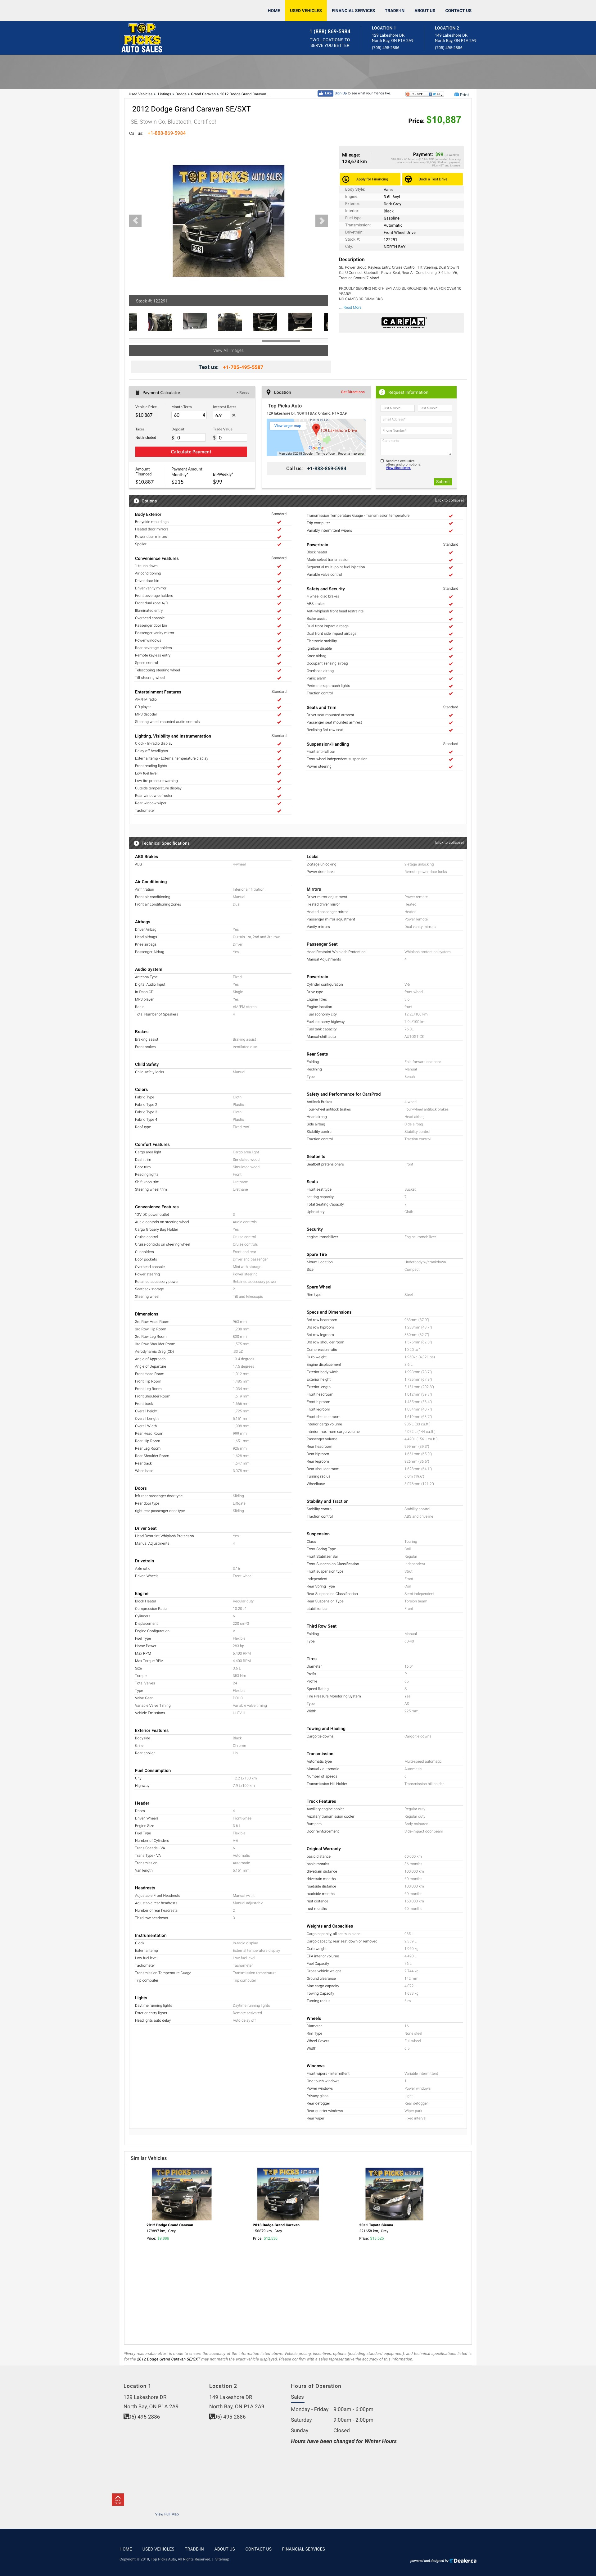car: (315, 214, 328, 228)
